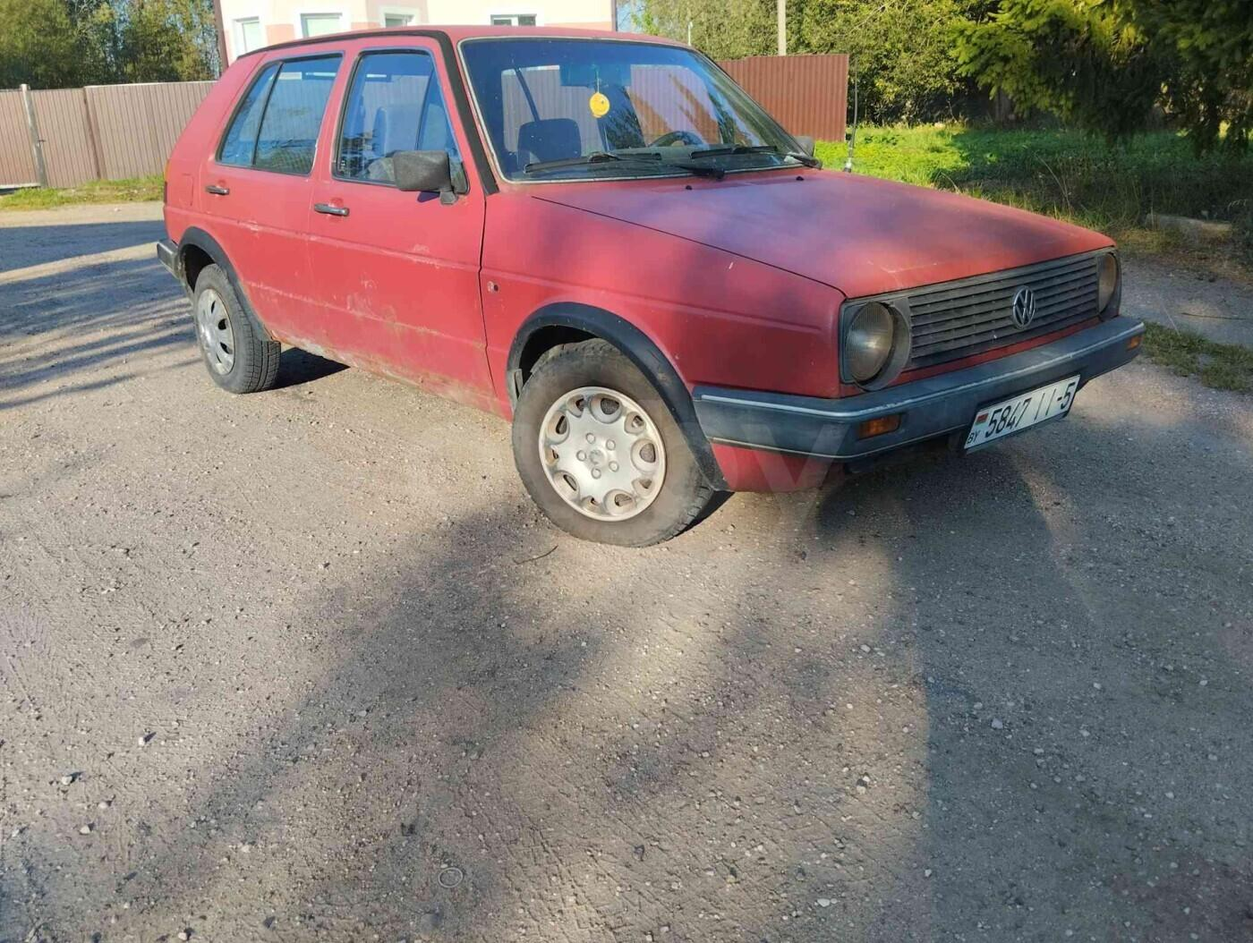Golf_1983-1992: (145, 24, 1152, 547)
